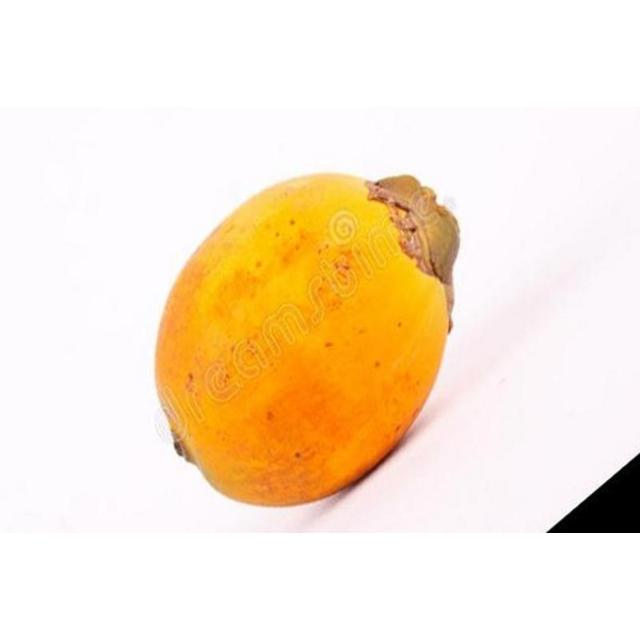good: (152, 173, 461, 509)
